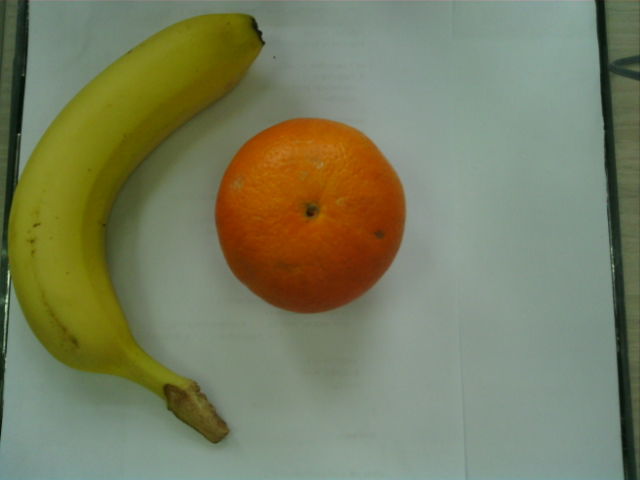normal_banana: (8, 13, 262, 388)
normal_orange: (217, 116, 407, 318)
